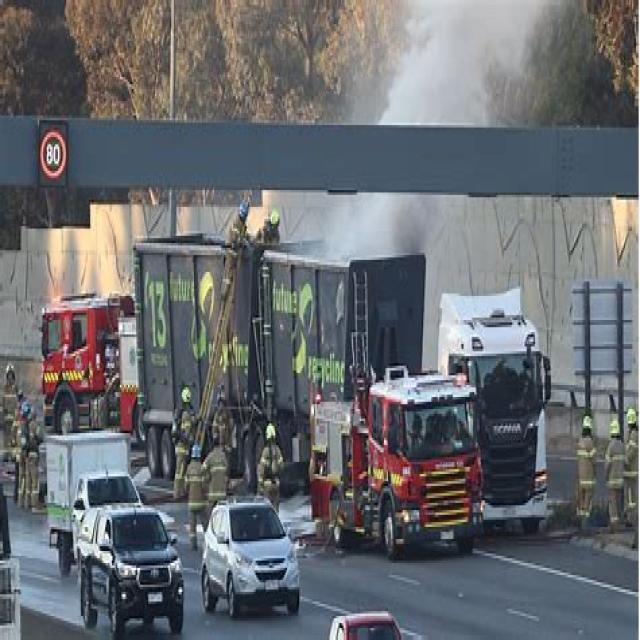Fire-engine: (281, 355, 484, 606), (40, 291, 136, 436)
